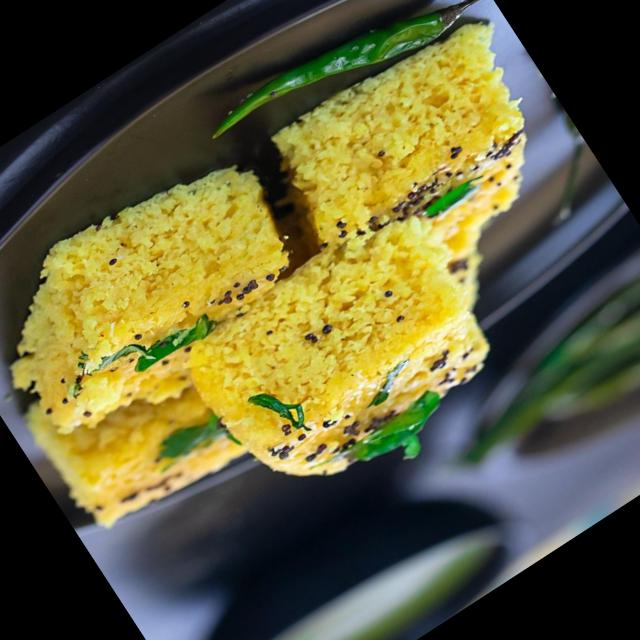dhokla: (0, 13, 630, 608)
